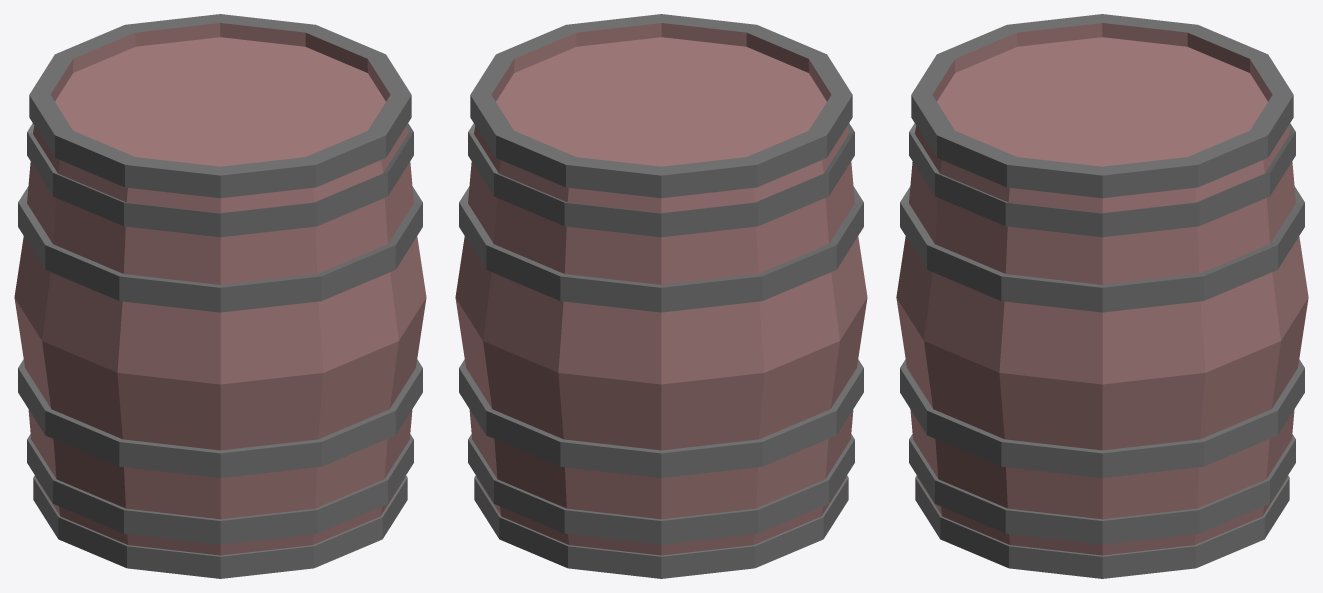
File: barrel_LowPoly002.fbx
The picture shows the model from 3 angles, left to right: view 1: azimuth 30°, elevation 25°; view 2: azimuth 150°, elevation 25°; view 3: azimuth 270°, elevation 25°; orthographic projection.
Parts seen in each view (by area): view 1: Barrel_Collision_mdl; view 2: Barrel_Collision_mdl; view 3: Barrel_Collision_mdl.
Part boxes in pixels (left/top/right/bottom): Barrel_Collision_mdl: left=14, top=14, right=426, bottom=578; Barrel_Collision_mdl: left=455, top=14, right=867, bottom=578; Barrel_Collision_mdl: left=896, top=14, right=1308, bottom=578.
Size of the model in its own units: 0.0232 by 0.0252 by 0.0232.
